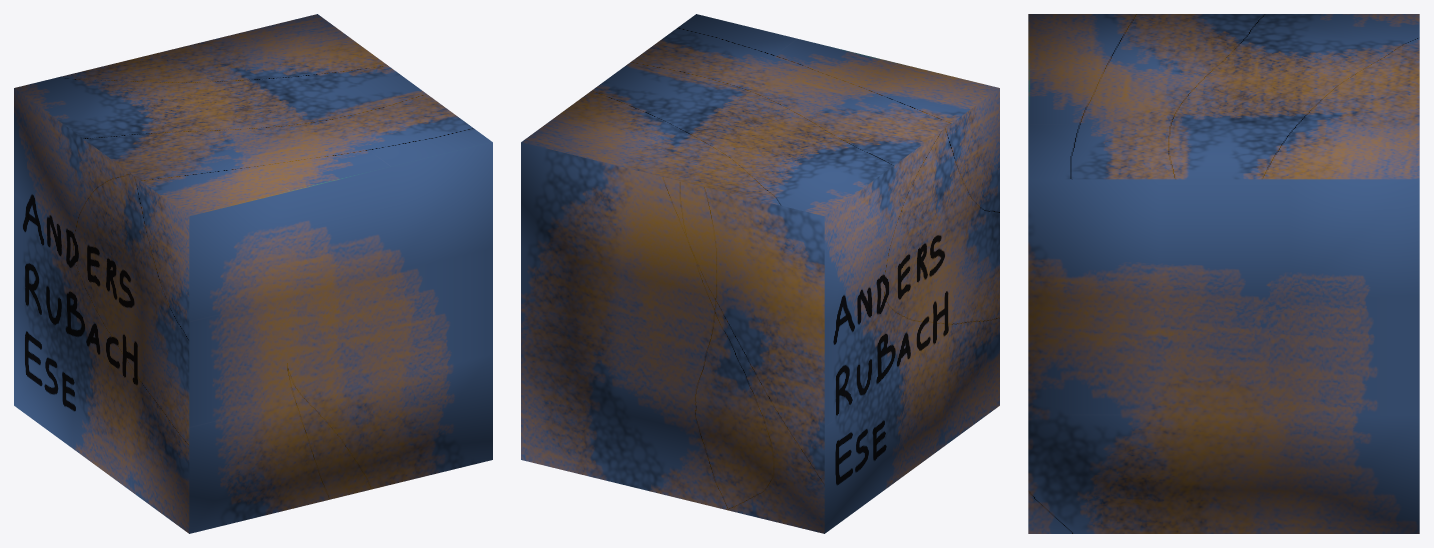
Rendered from spillDesignBoks_04_UVW_Unwrap.glb.
The picture shows the model from 3 angles, left to right: view 1: azimuth 30°, elevation 25°; view 2: azimuth 150°, elevation 25°; view 3: azimuth 270°, elevation 25°; orthographic projection. The views are drawn at different scales.
Parts seen in each view (by area): view 1: Box001; view 2: Box001; view 3: Box001.
Boxes of the visible parts, x1=… form: Box001: x1=14, y1=14, x2=492, y2=533; Box001: x1=521, y1=14, x2=999, y2=533; Box001: x1=1028, y1=14, x2=1419, y2=533.
Size of the model in its own units: 19.68 by 19.69 by 19.69.
1 material, 1 textured.
